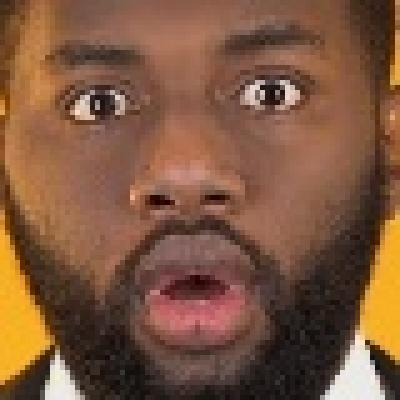surprise: (22, 2, 371, 397)
